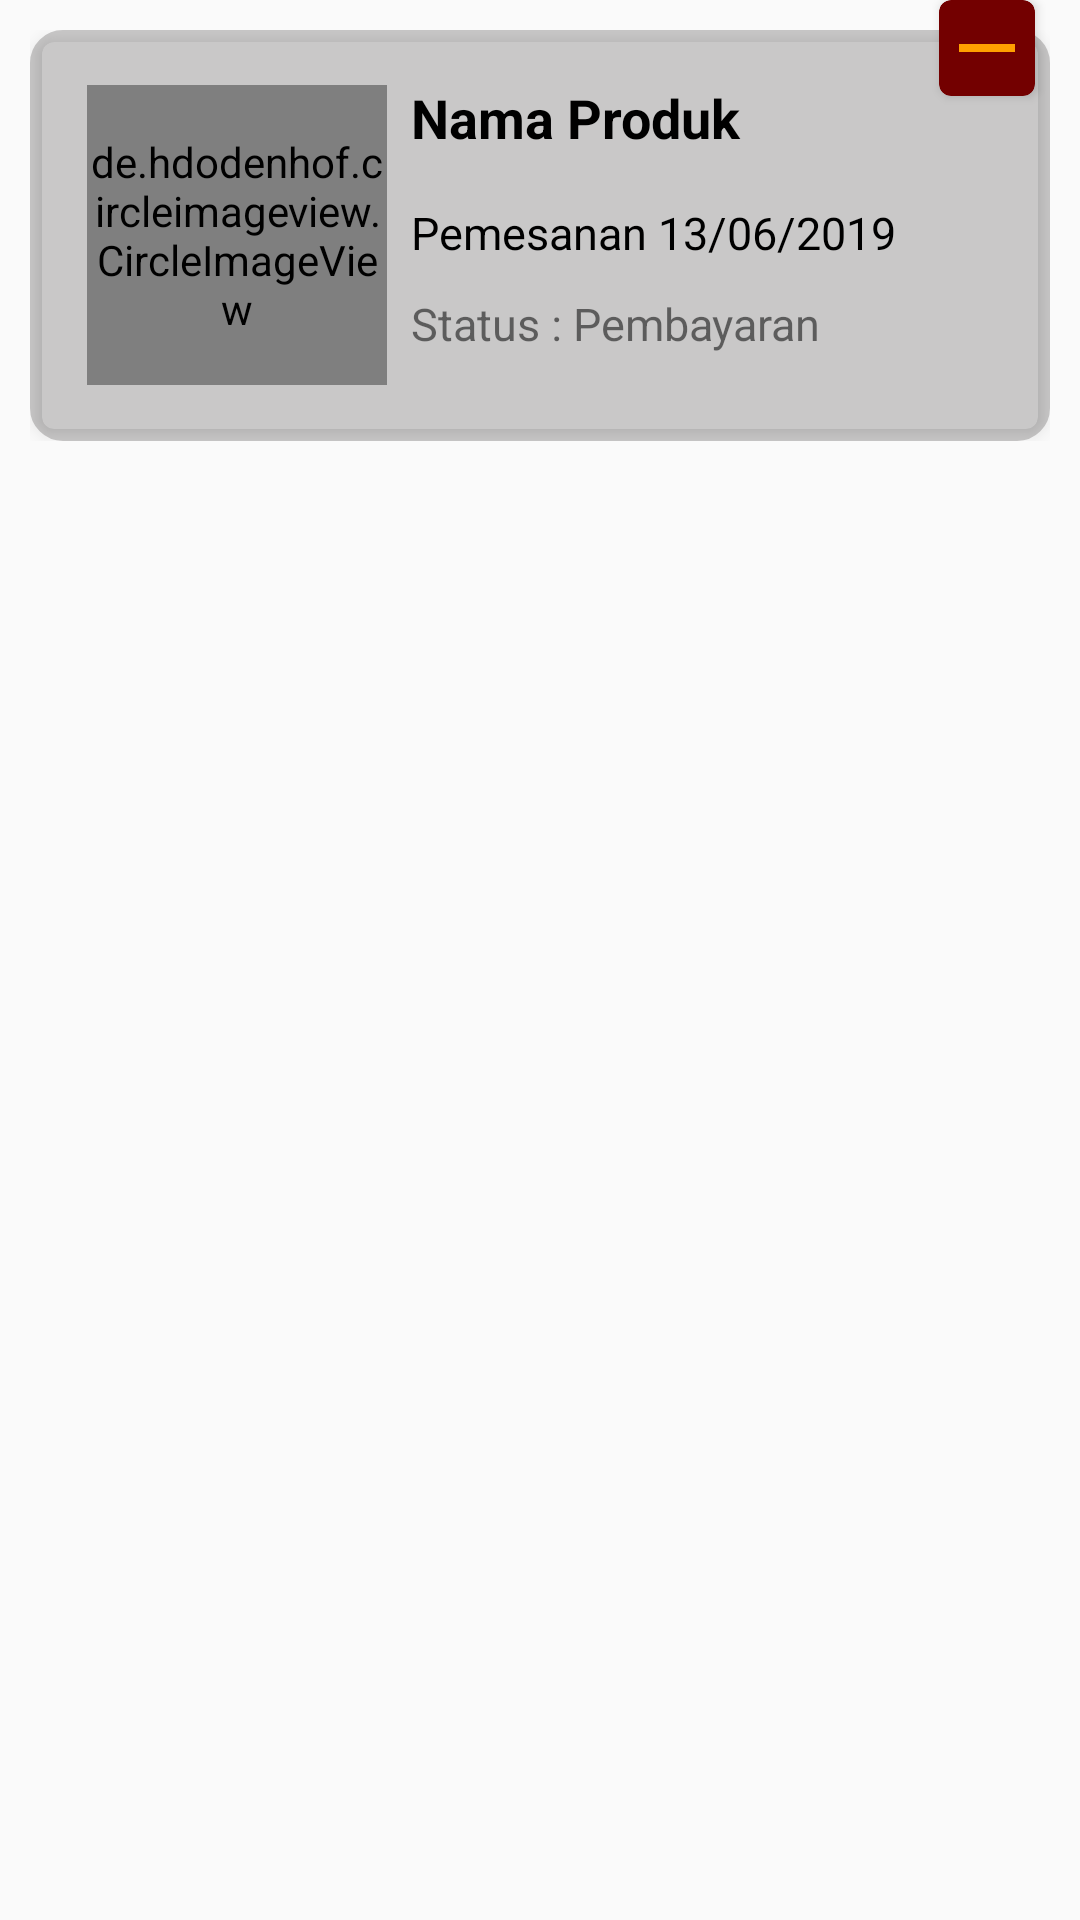

Locate icon controls on the screen. Image size 1080×1920, boxes as (x1, y1, x2, y2).
remove: (939, 0, 1035, 96)
